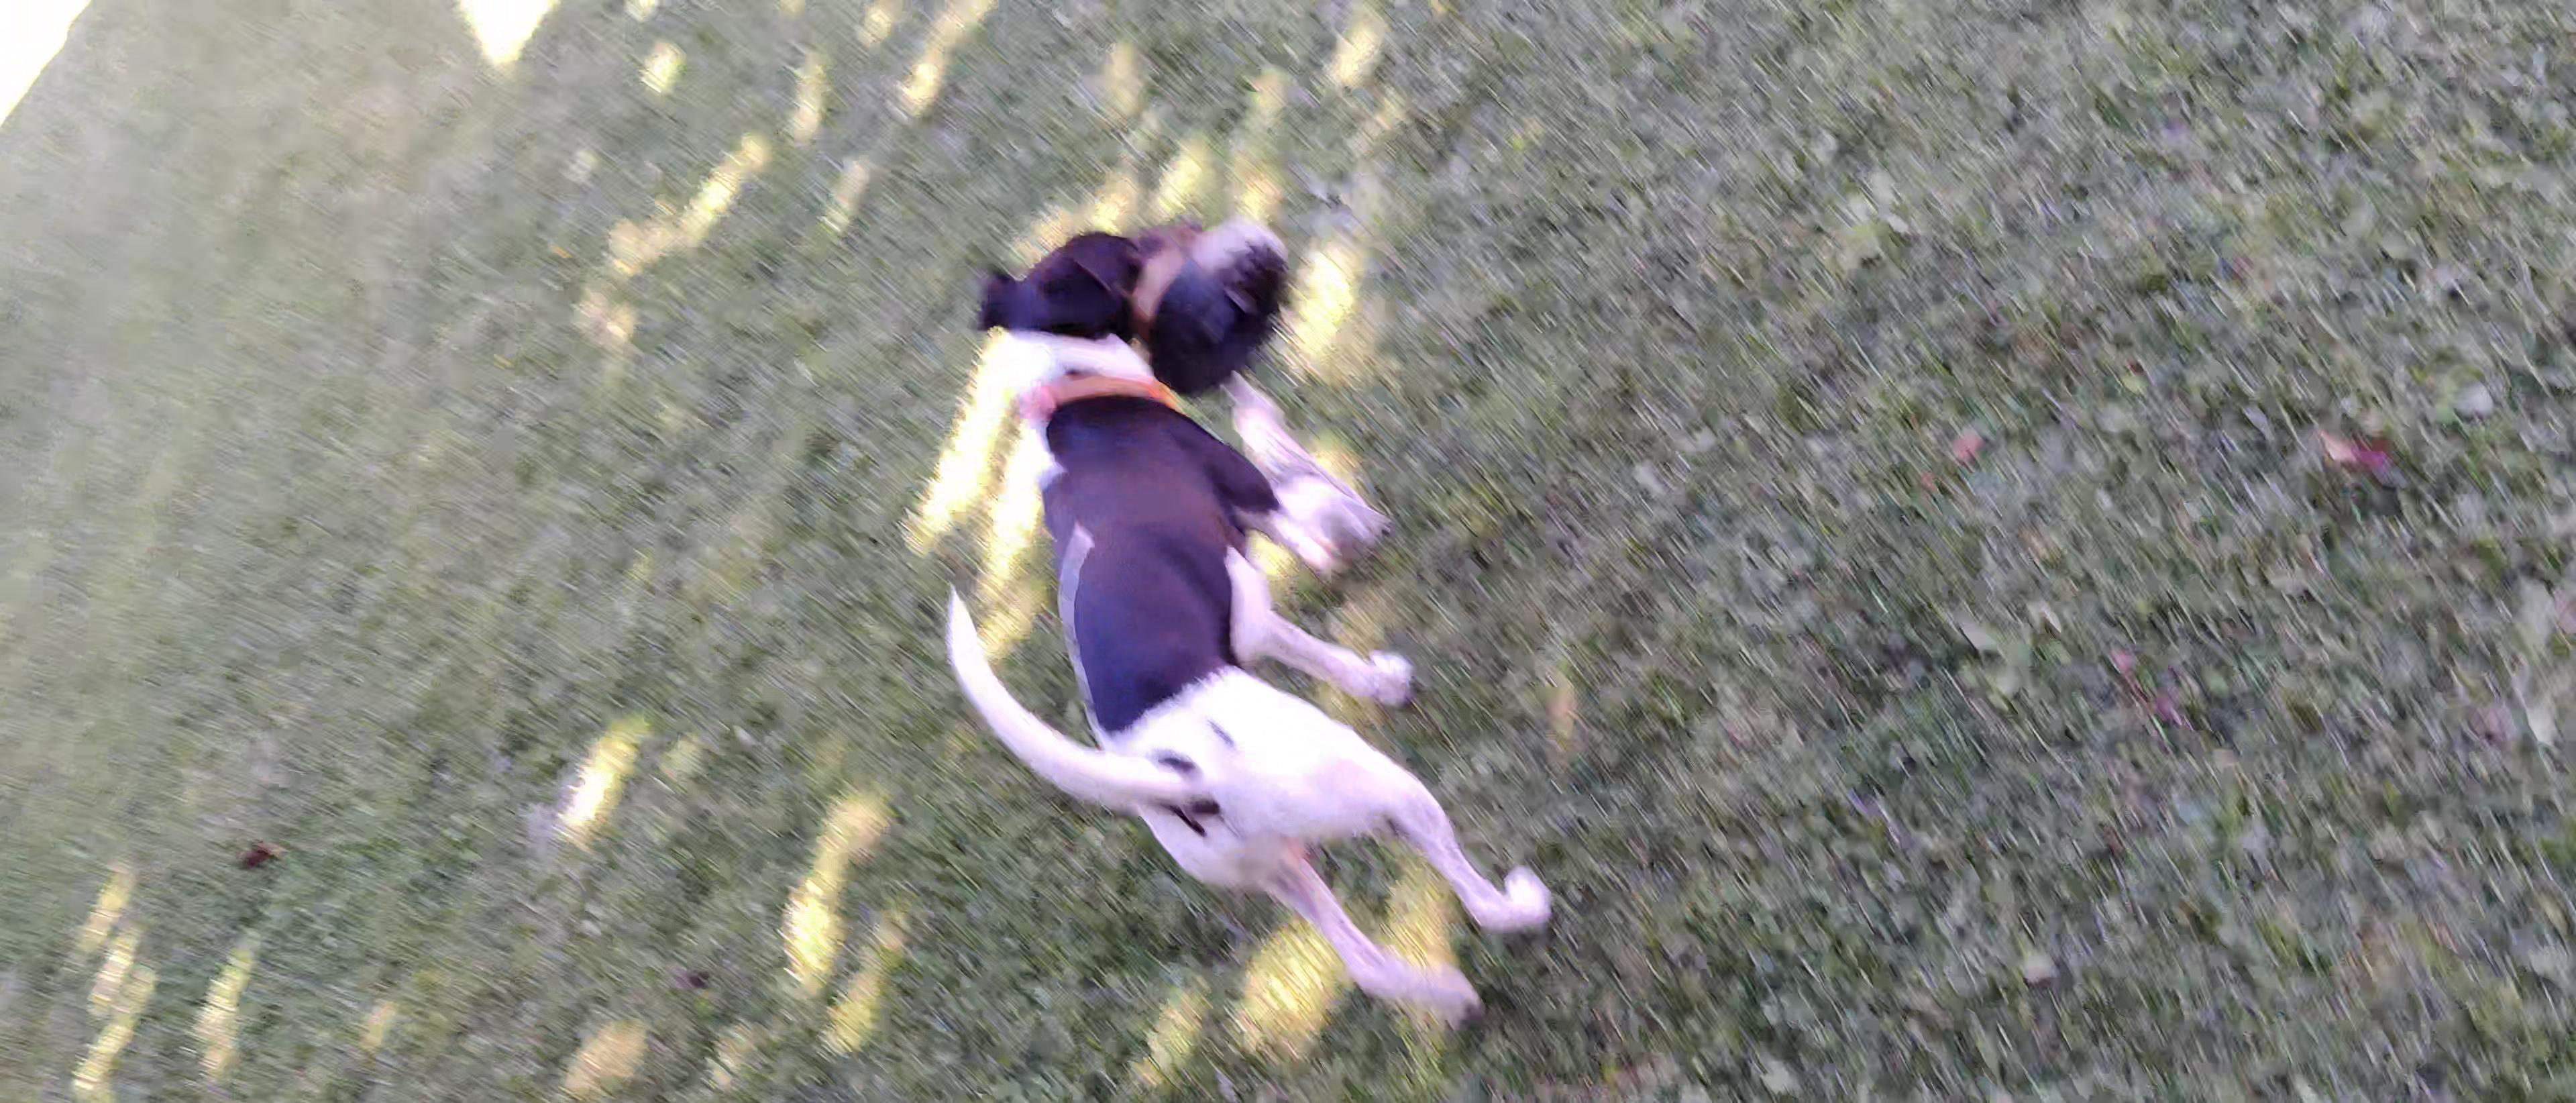Dog: (922, 209, 1569, 1022)
